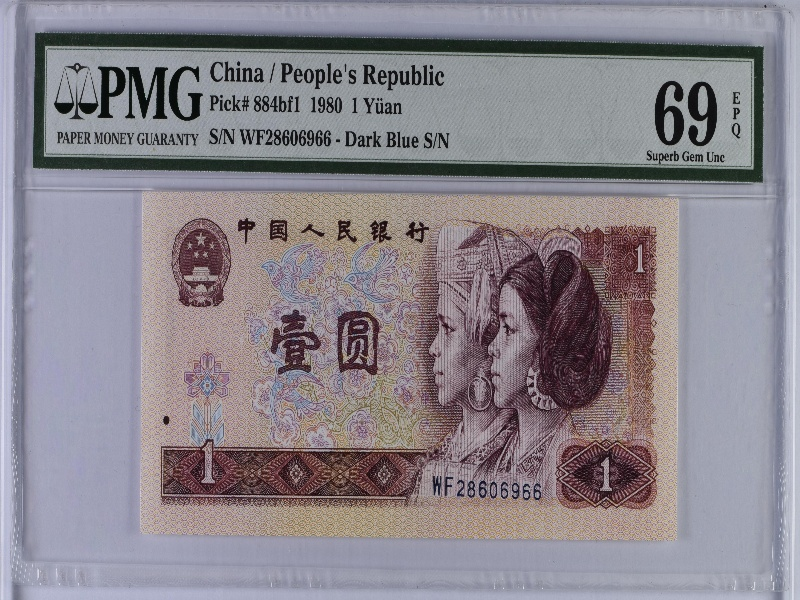papernote: (139, 187, 679, 544)
